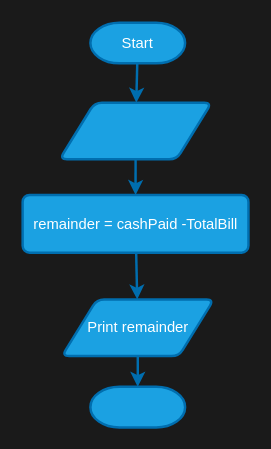
Image size: 271x449. Some labels were removed from this diagram. Here are the shapes that lost their labels. From the top down, the centre of each, then its label:
At point 135,130: "Read TotalBIll CashPaid".
At point 137,406: "End".
